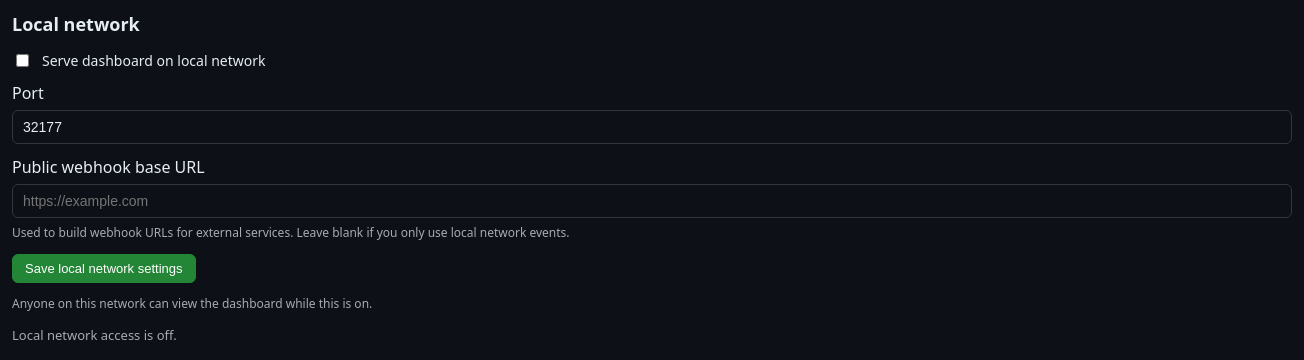
Test: LanSettings › rejects an invalid public webhook base URL with terminal punctuation
Type "http://example.com/path" into the field labelled "Public webhook base URL" at x=652, y=201, box left=12, top=184, right=1292, bottom=218
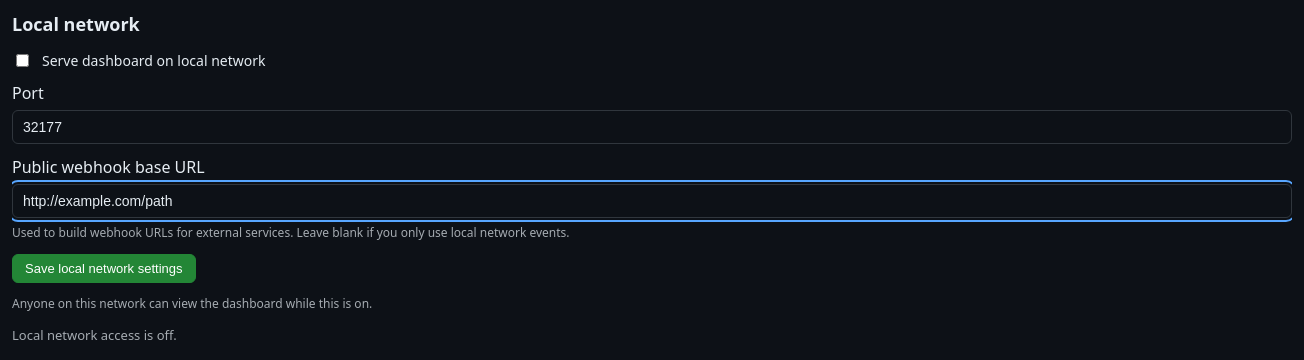
Click the button "Save local network settings" at x=104, y=268, box left=12, top=254, right=196, bottom=283
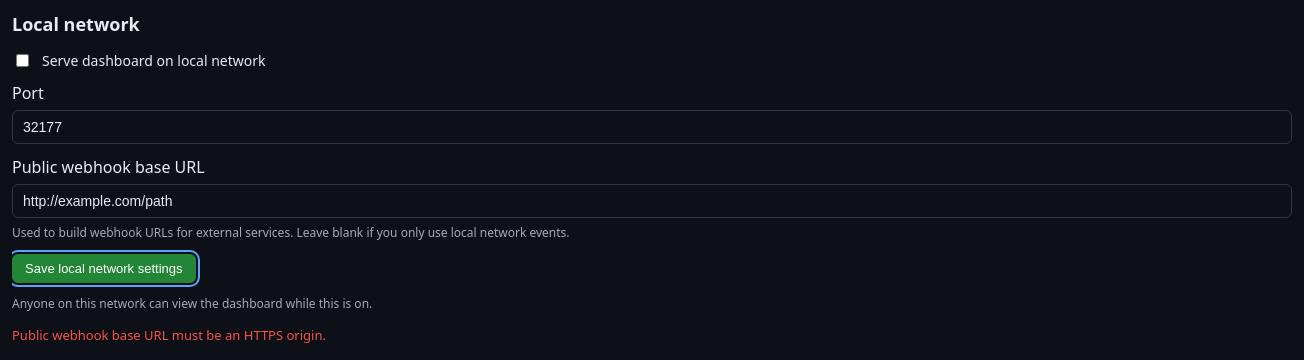
Expected: the message reads "Public webhook base URL must be an HTTPS origin.", left=12, top=326, right=326, bottom=344
